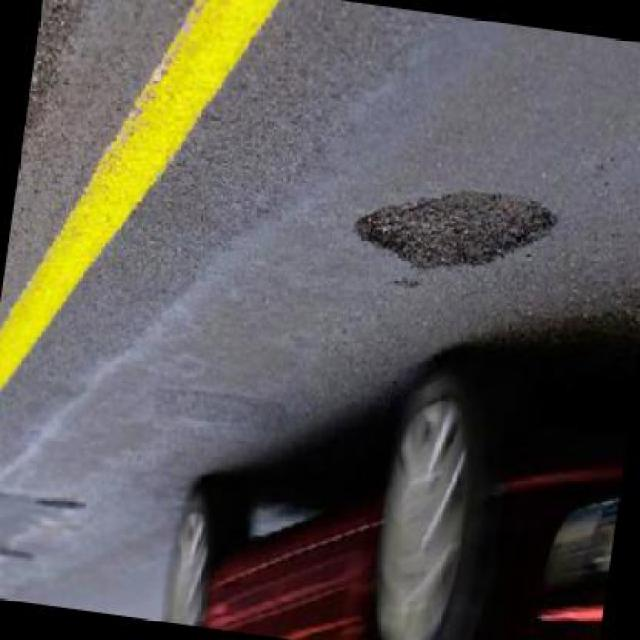pothole1: (344, 175, 558, 292), (30, 493, 84, 519), (388, 274, 418, 294)
